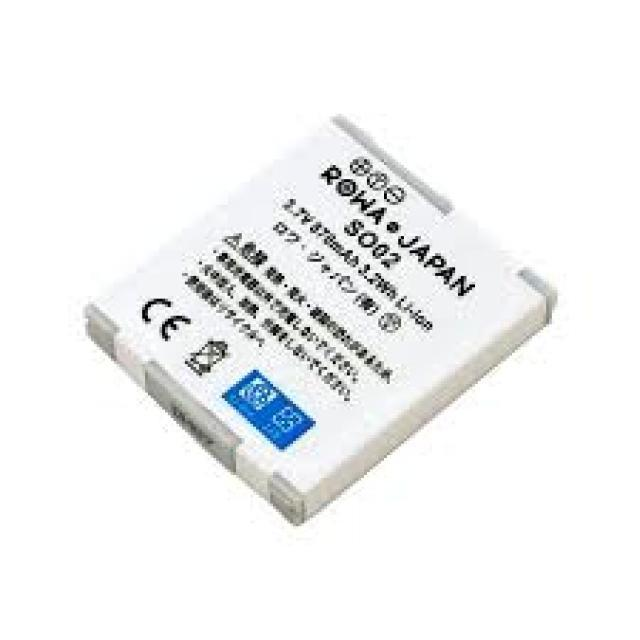battery: (74, 108, 558, 526)
